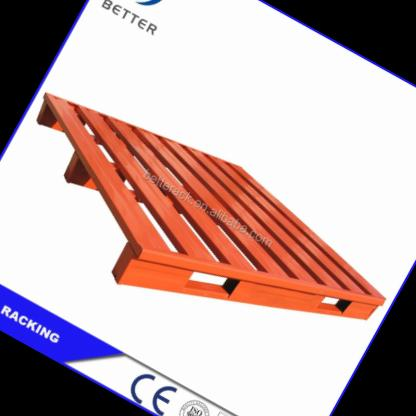BoxFace: (32, 91, 392, 326)
